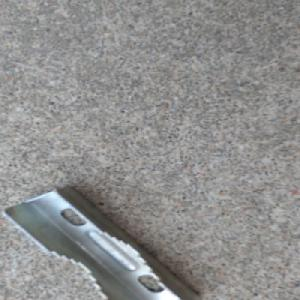ClampPart: (1, 185, 205, 300)
